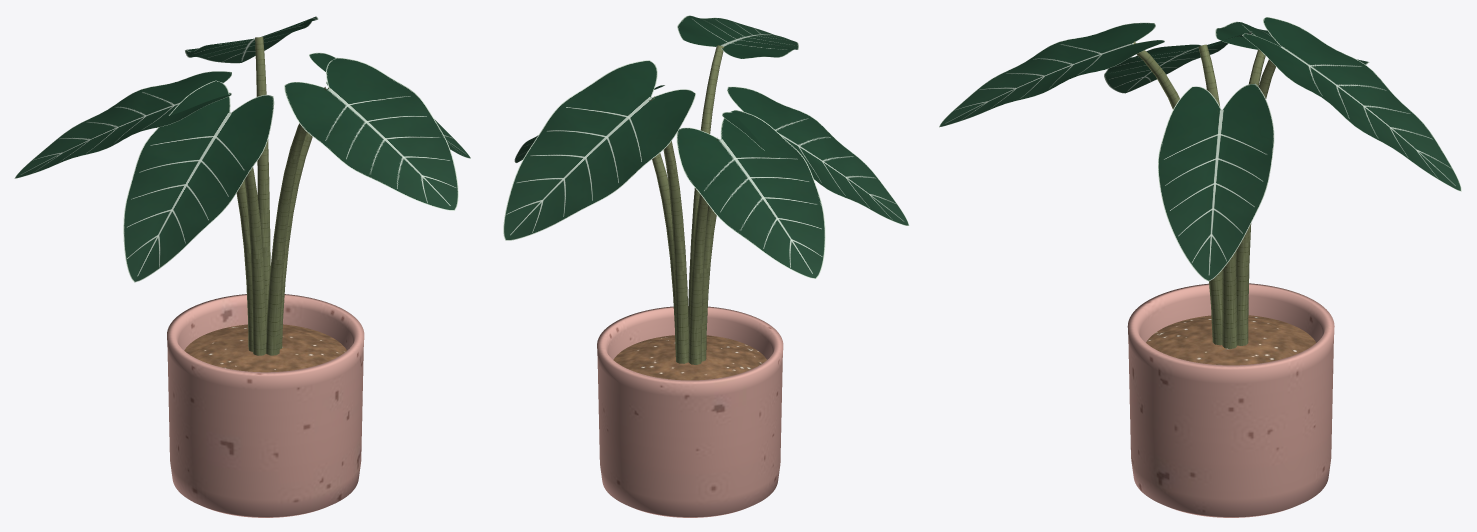
Rendered from alocasia.glb.
The picture shows the model from 3 angles, left to right: view 1: azimuth 30°, elevation 25°; view 2: azimuth 150°, elevation 25°; view 3: azimuth 270°, elevation 25°; orthographic projection. The views are drawn at different scales.
Parts seen in each view (by area): view 1: piece-0, piece-5, piece-6, piece-7, piece-4, piece-1, piece-3, piece-2; view 2: piece-0, piece-3, piece-4, piece-7, piece-5, piece-1, piece-6; view 3: piece-0, piece-2, piece-3, piece-6, piece-7, piece-1, piece-5, piece-4.
Boxes of the visible parts, x1=… form: piece-0: x1=167, y1=294, x2=364, y2=517; piece-5: x1=123, y1=80, x2=274, y2=282; piece-6: x1=284, y1=57, x2=458, y2=210; piece-7: x1=236, y1=37, x2=328, y2=355; piece-4: x1=14, y1=71, x2=231, y2=178; piece-1: x1=184, y1=324, x2=346, y2=372; piece-3: x1=185, y1=16, x2=318, y2=63; piece-2: x1=309, y1=52, x2=470, y2=158; piece-0: x1=597, y1=306, x2=783, y2=517; piece-3: x1=503, y1=60, x2=695, y2=240; piece-4: x1=676, y1=110, x2=825, y2=278; piece-7: x1=649, y1=45, x2=724, y2=364; piece-5: x1=722, y1=86, x2=909, y2=225; piece-1: x1=613, y1=335, x2=766, y2=380; piece-6: x1=677, y1=15, x2=798, y2=58; piece-0: x1=1127, y1=283, x2=1334, y2=517; piece-2: x1=1158, y1=83, x2=1274, y2=281; piece-3: x1=1242, y1=17, x2=1461, y2=191; piece-6: x1=939, y1=22, x2=1164, y2=127; piece-7: x1=1133, y1=41, x2=1275, y2=348; piece-1: x1=1146, y1=315, x2=1316, y2=365; piece-5: x1=1104, y1=31, x2=1251, y2=93; piece-4: x1=1215, y1=21, x2=1369, y2=64.
Size of the model in its own units: 0.3658 by 0.4006 by 0.4082.
4 materials, 4 textured.
